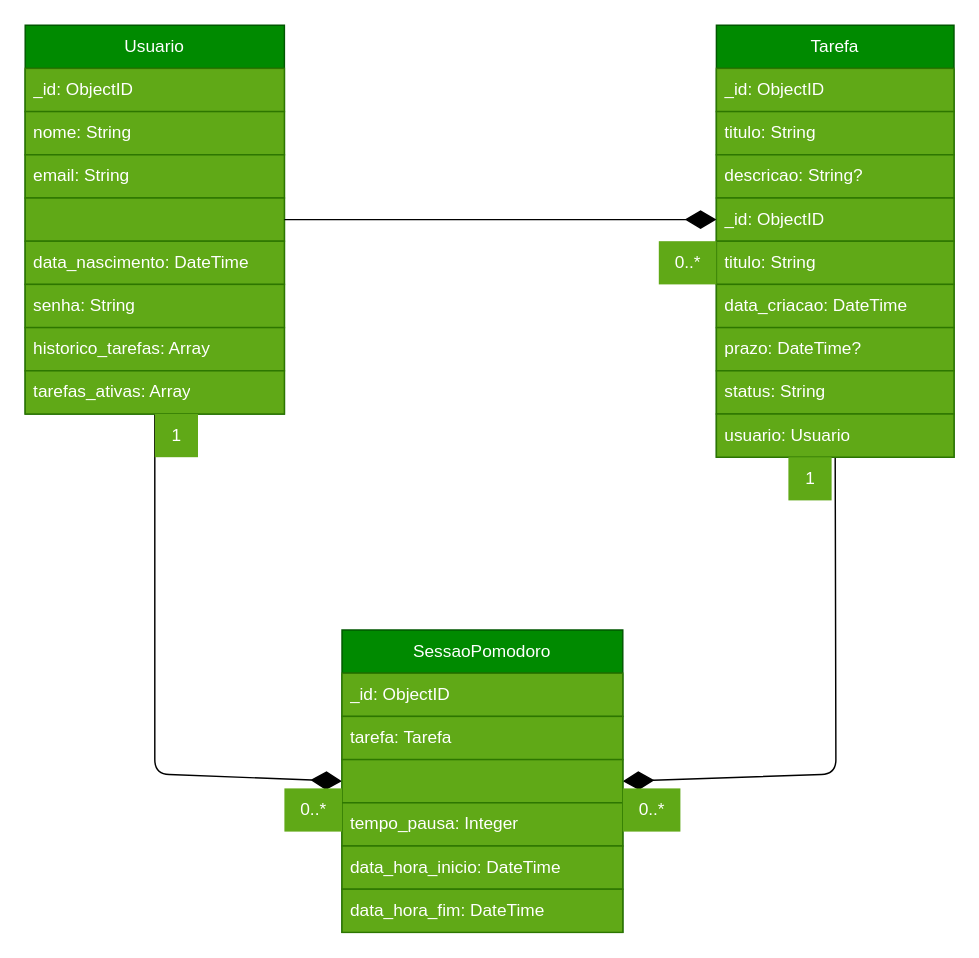
Image size: 979x958. Some labels were removed from this diagram. The shapes that lost their labels are listed below. From the top down, each one's centre as x and y in pixels, then its label:
[154,219]: telefone: String?
[482,780]: tempo_foco: Integer
